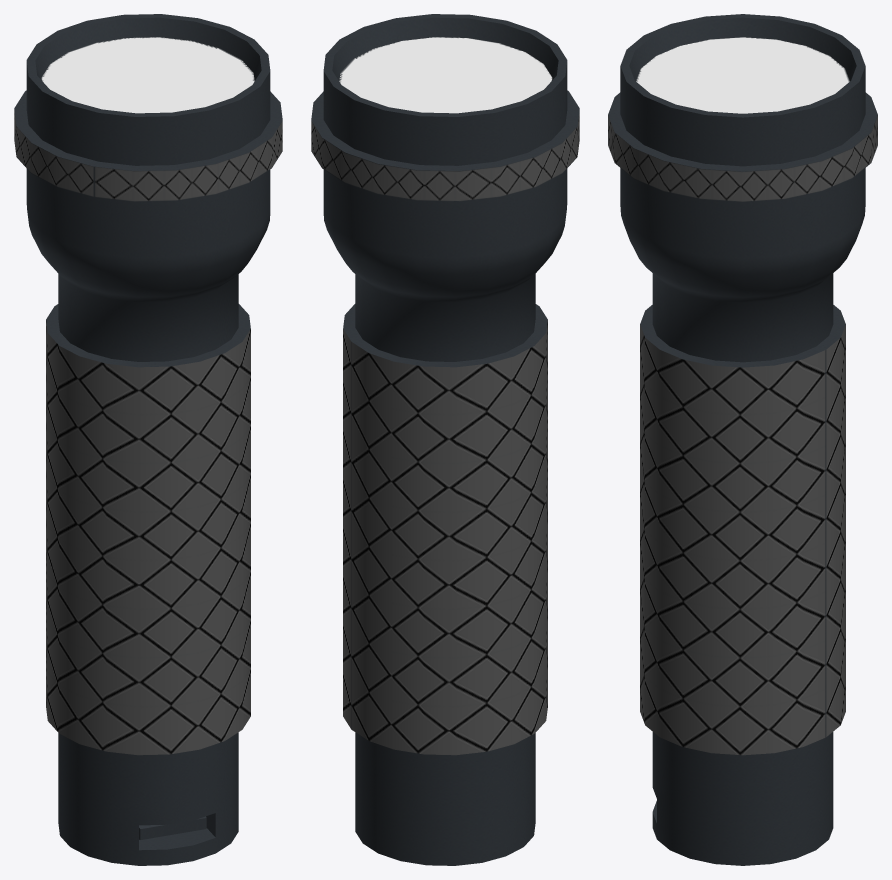
File: FlashLight_Mesh.FBX
3 views of the same model, side by side, from view 1: azimuth 30°, elevation 25°; view 2: azimuth 150°, elevation 25°; view 3: azimuth 270°, elevation 25° (orthographic).
Visible parts, largest first — view 1: Flashlight; view 2: Flashlight; view 3: Flashlight.
Boxes of the visible parts, <box> form: Flashlight: <box>14,14,282,865</box>; Flashlight: <box>311,14,579,865</box>; Flashlight: <box>608,14,877,865</box>.
Bounding box in the file's own units: 43.43 × 135 × 43.43.
Materials: 1 (1 with a texture image).
